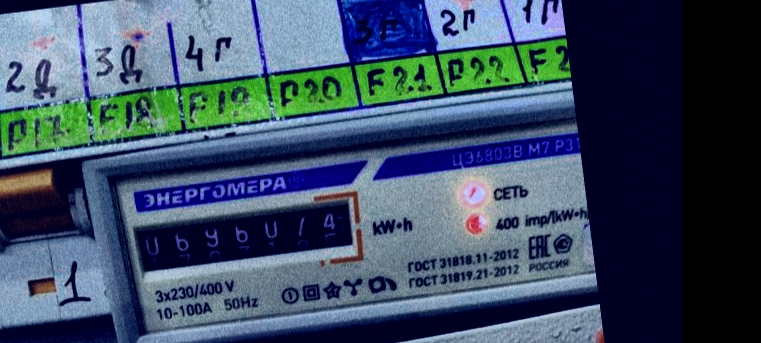0: (139, 229, 161, 255), (260, 212, 279, 239)
4: (317, 205, 336, 229)
5: (321, 230, 339, 247)
6: (231, 216, 251, 244), (171, 225, 190, 251)
7: (290, 209, 310, 236)
9: (200, 221, 219, 249)
screen: (121, 185, 367, 283)
